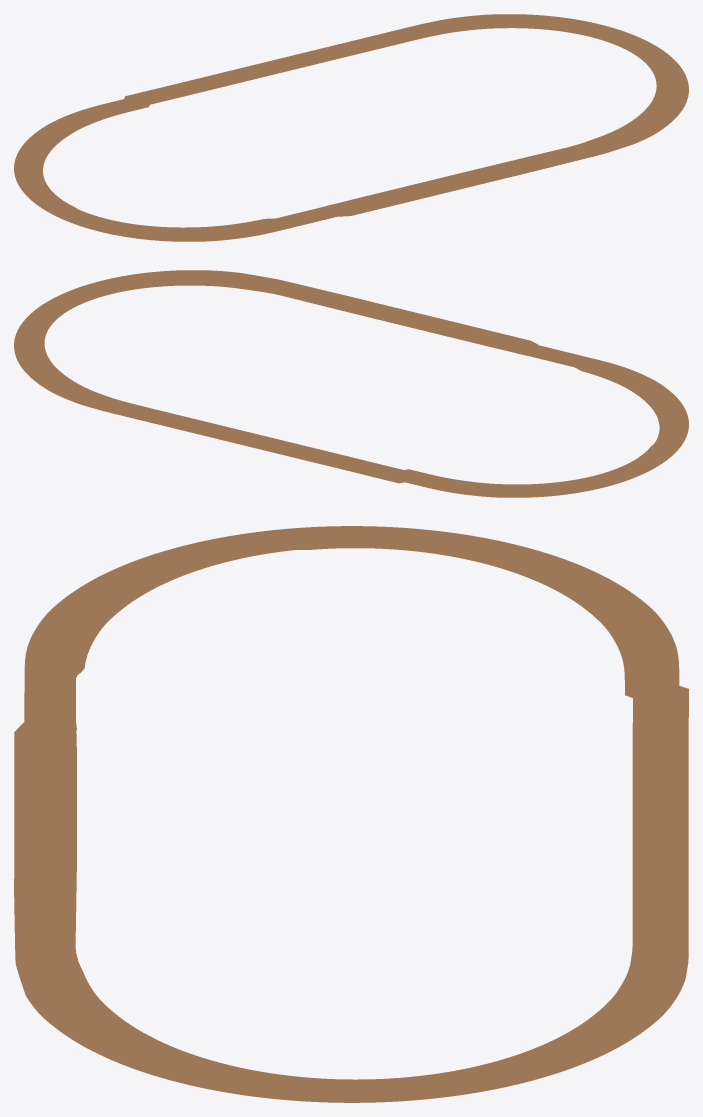
The model's file is Trackkk.fbx.
3 views of the same model, one above another, from view 1: azimuth 30°, elevation 25°; view 2: azimuth 150°, elevation 25°; view 3: azimuth 270°, elevation 25° (orthographic). The views are drawn at different scales.
Visible parts, largest first — view 1: 1TARMAC_oval_road_0; view 2: 1TARMAC_oval_road_0; view 3: 1TARMAC_oval_road_0.
Part boxes in pixels (x1,y1,x2,y2): 1TARMAC_oval_road_0: (14, 14, 688, 241); 1TARMAC_oval_road_0: (14, 270, 688, 497); 1TARMAC_oval_road_0: (14, 526, 688, 1102).
Bounding box in the file's own units: 58471 × 13.21 × 28921.
